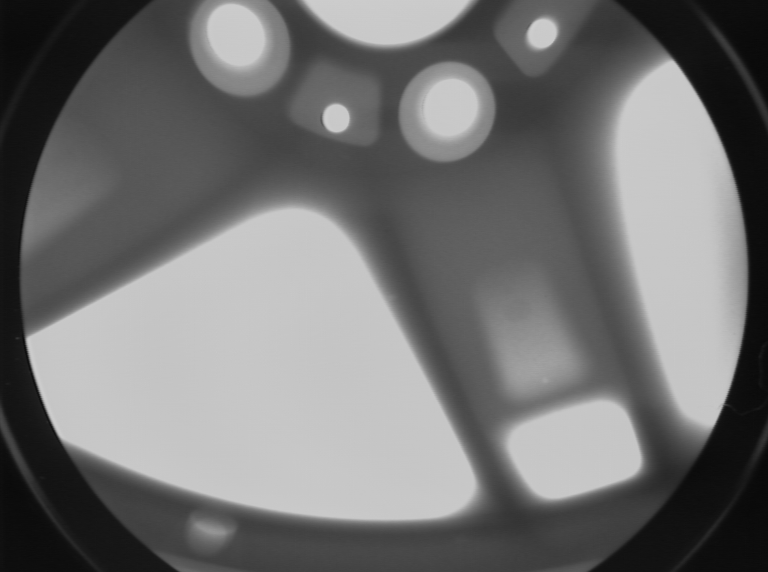defect: (379, 286, 404, 309)
